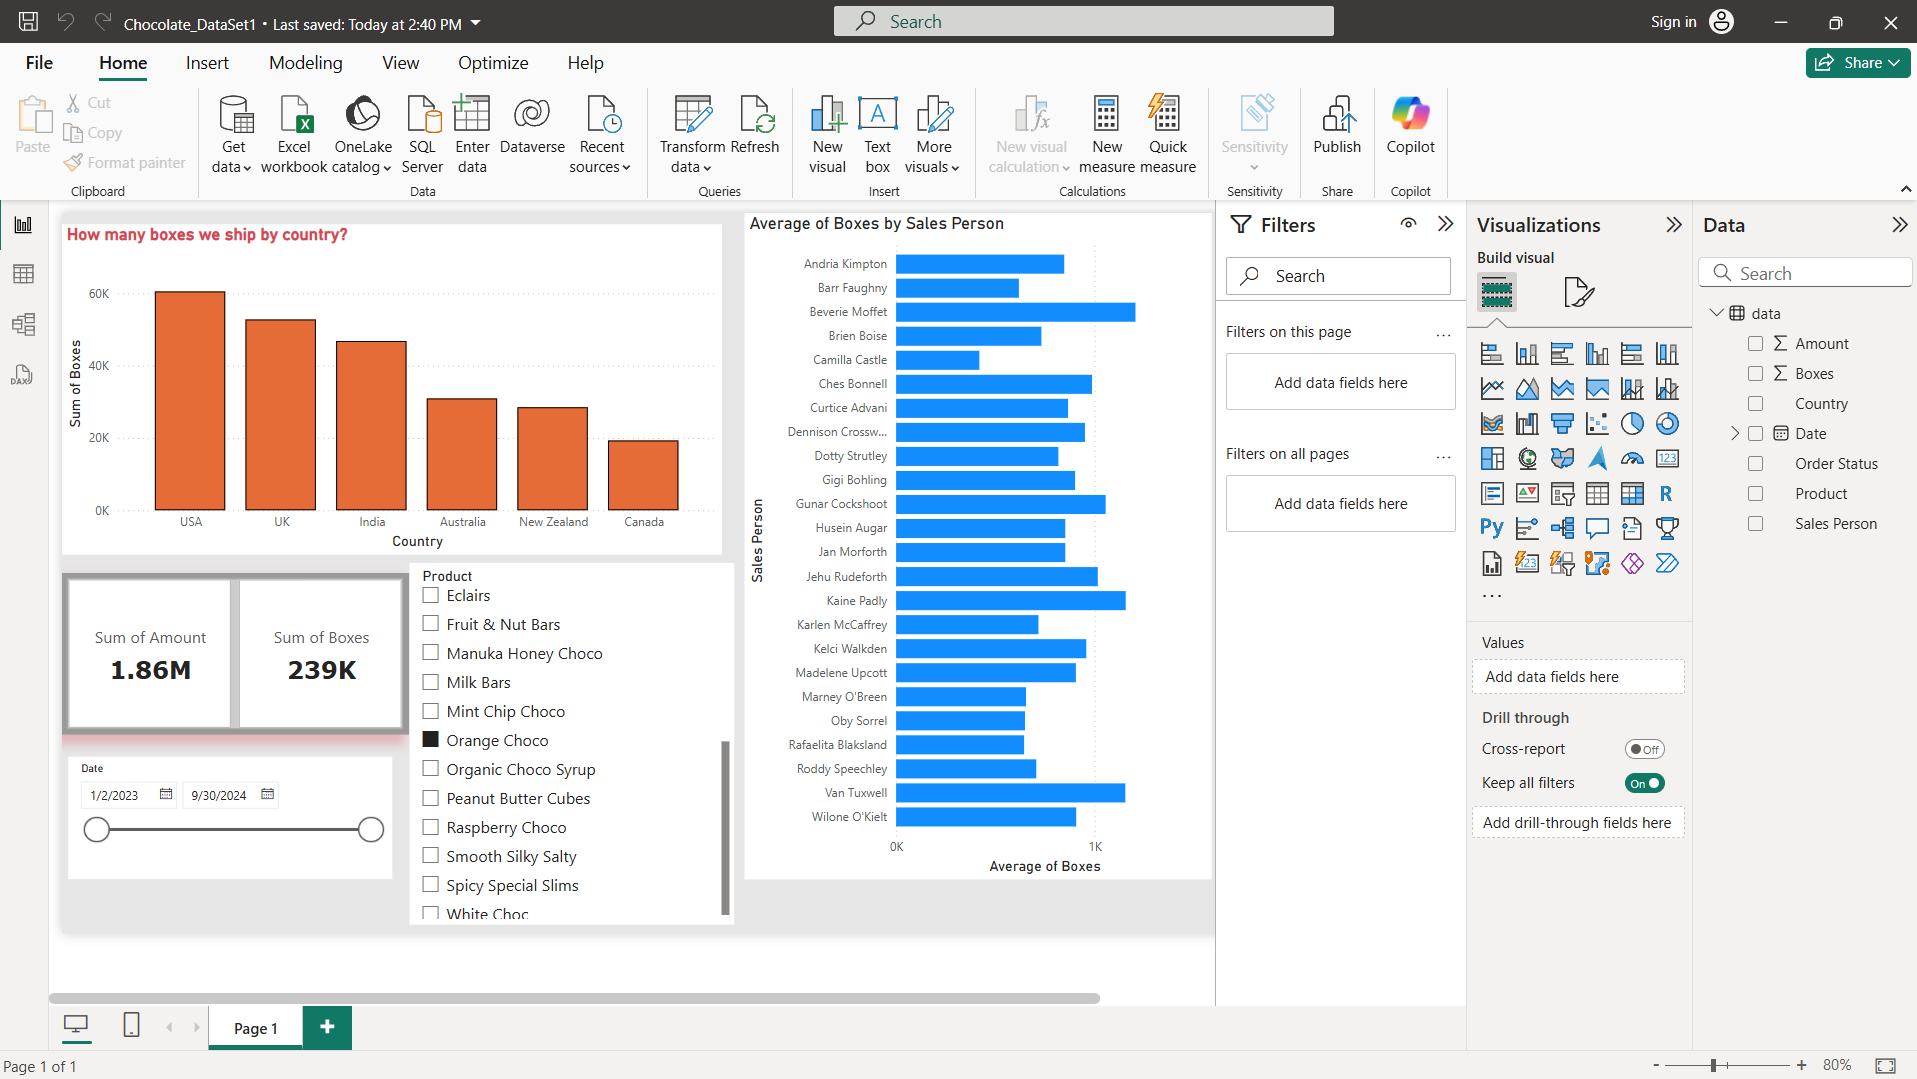

The dashboard page shown, as its layout file describes it:
{"tool":"powerbi","page":{"name":"Page 1","canvas":[1280,720],"ordinal":0},"visuals":[{"type":"columnChart","title":"How many boxes we ship by country?","fields":{"Category":["data.Country"],"Y":["Sum(data.Boxes)"]},"box":[17.5,3.8,711.2,330],"z":0},{"type":"clusteredBarChart","fields":{"Category":["data.Sales Person"],"Y":["Avg(data.Boxes)"]},"box":[768.8,0,511.2,702.5],"z":1000},{"type":"cardVisual","fields":{"Data":["Sum(data.Amount)","Sum(data.Boxes)"]},"box":[17.5,360,347.5,161.2],"z":2000},{"type":"slicer","fields":{"Values":["data.Product"]},"box":[403.8,341.2,325,361.2],"z":3000},{"type":"slicer","fields":{"Values":["data.Date"]},"box":[41.2,543.8,323.8,122.5],"z":4000}]}

Visuals, with their boxes on the page's 1280x720 design canvas (x1, y1, x2, y2). These are canvas units, not pixel positions in the 1917x1079 screenshot, which may show the page scaled, cropped or inside an application window:
"How many boxes we ship by country?" columnChart: 18:4:729:334
clusteredBarChart - data.Sales Person x Avg(data.Boxes): 769:0:1280:702
cardVisual - Sum(data.Amount) x Sum(data.Boxes): 18:360:365:521
slicer - data.Product: 404:341:729:702
slicer - data.Date: 41:544:365:666
